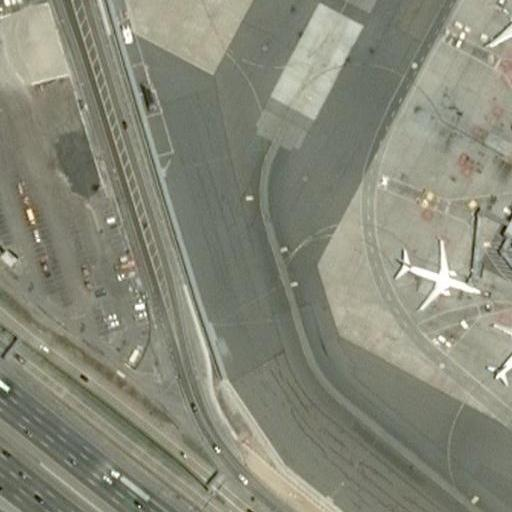Aircraft: (391, 245, 468, 308), (455, 0, 512, 50), (482, 307, 512, 385)
